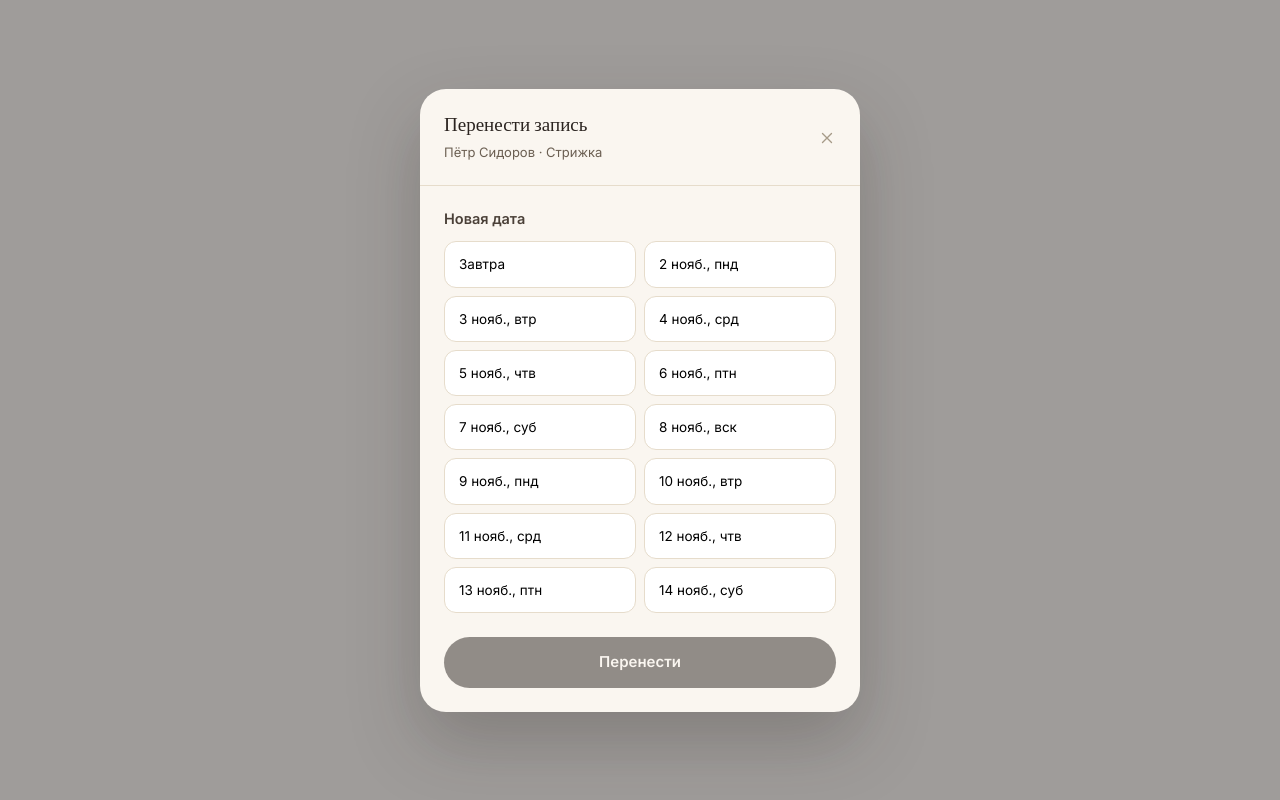
Test: RescheduleModal — F7: reads the time grid from the server, not a hand-rolled generator › fetches slots via bookingsApi.getSlots with manual=true for the booking's master/service
Click the button "Завтра". click: click(540, 264)
box: top-left (444, 241), bottom-right (636, 288)
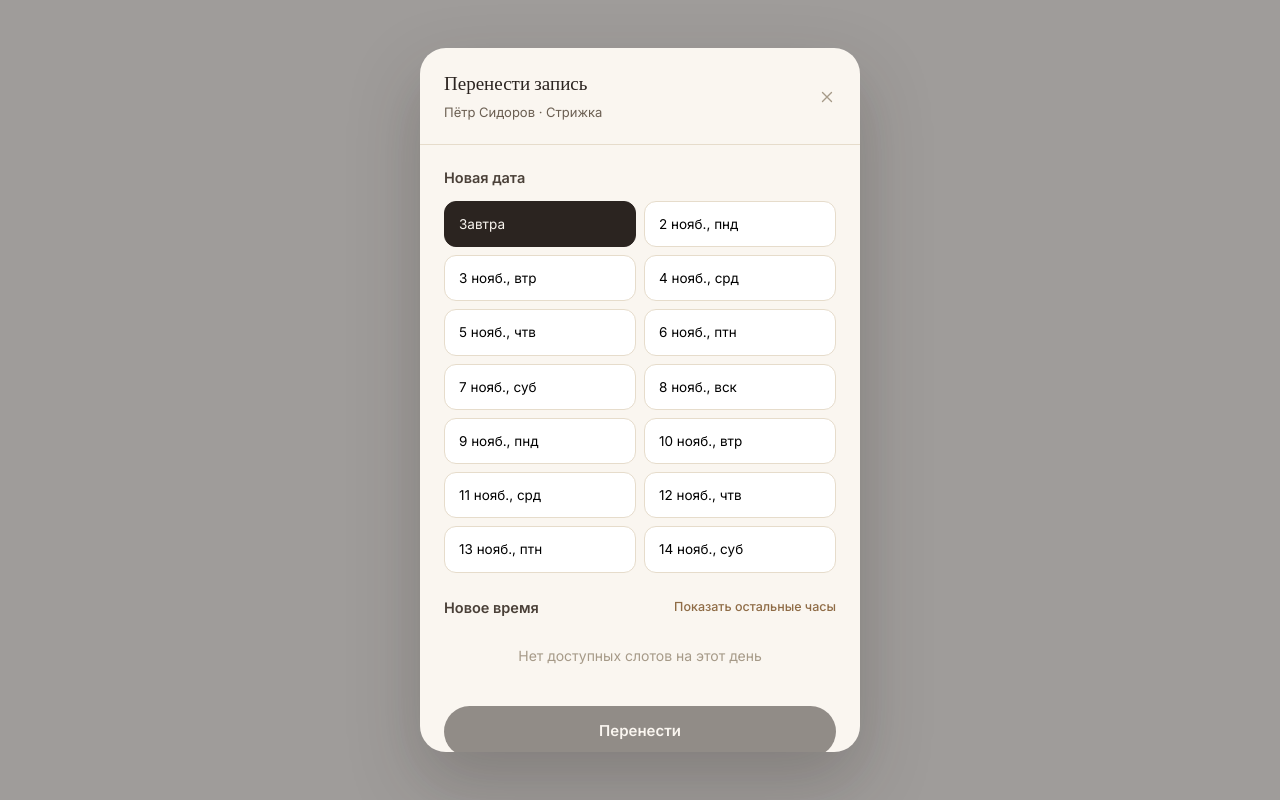
Result: the button "Показать остальные часы" is shown at top-left (674, 598), bottom-right (836, 617)
